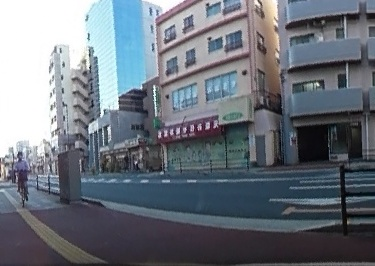person: (13, 150, 29, 201)
